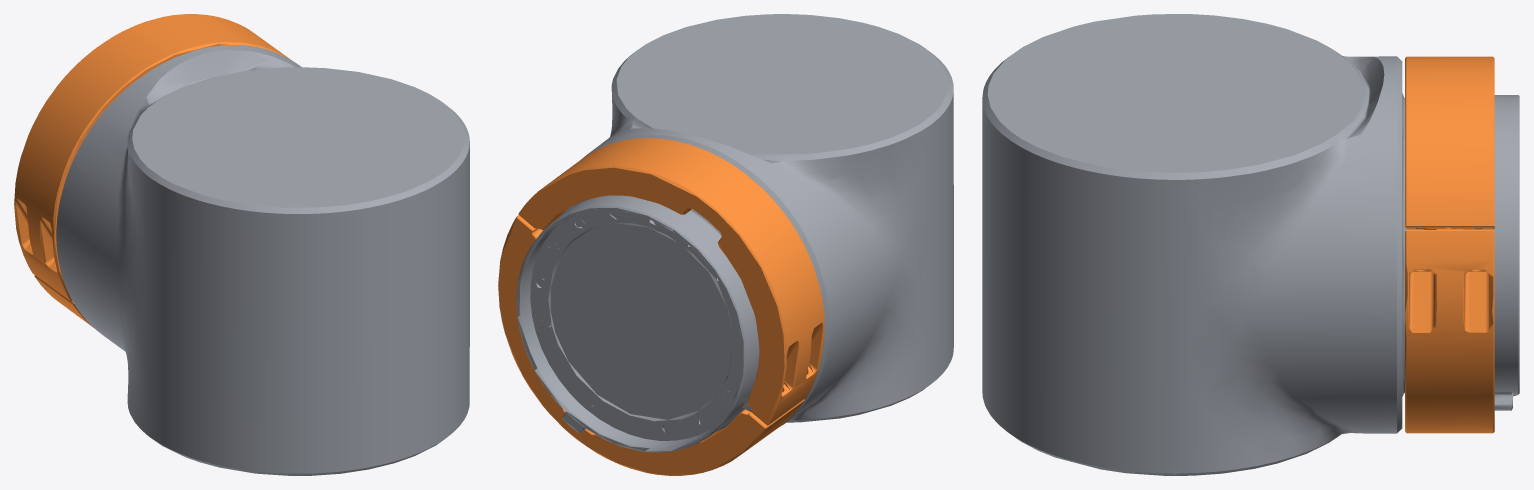
The model's file is left_arm_link1.glb.
The picture shows the model from 3 angles, left to right: view 1: azimuth 30°, elevation 25°; view 2: azimuth 150°, elevation 25°; view 3: azimuth 270°, elevation 25°; orthographic projection. The views are drawn at different scales.
Visible parts, largest first — view 1: left_arm_link1; view 2: left_arm_link1; view 3: left_arm_link1.
Boxes of the visible parts, x1,y1,x2,y2 form: left_arm_link1: [14, 14, 469, 475]; left_arm_link1: [498, 14, 953, 475]; left_arm_link1: [982, 14, 1519, 475].
Bounding box in the file's own units: 0.147 × 0.1434 × 0.204.
